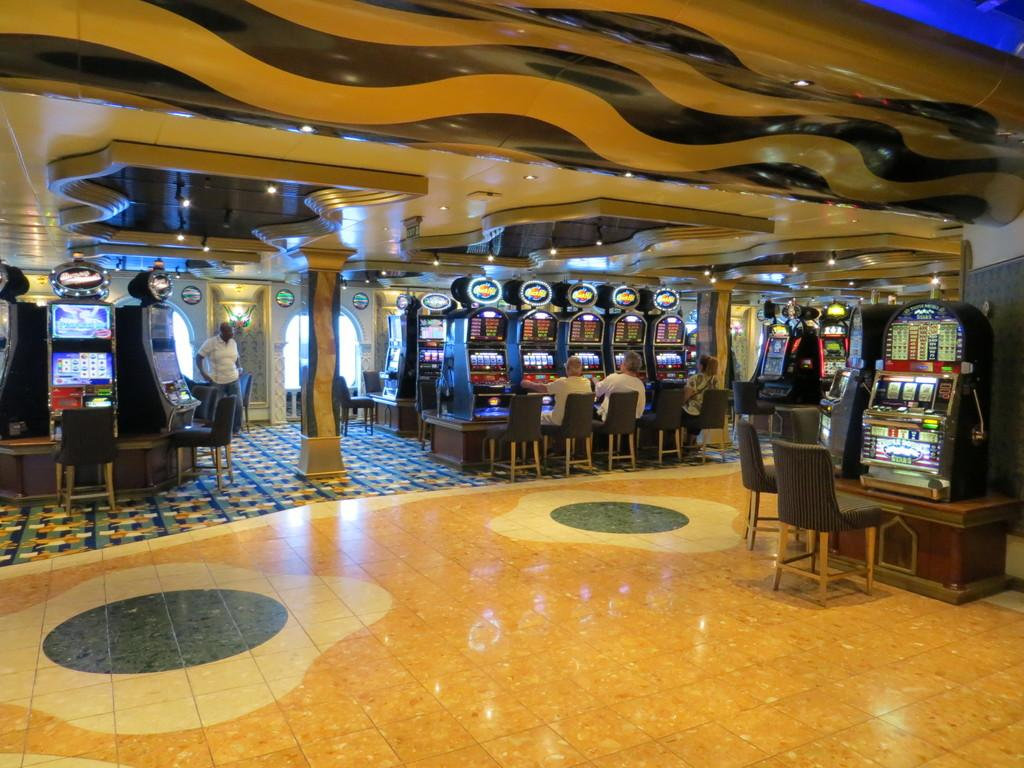Chair: (772, 440, 888, 596), (54, 413, 118, 515), (172, 399, 241, 492), (737, 415, 781, 549), (481, 396, 550, 477), (546, 397, 604, 479), (634, 381, 682, 459), (593, 394, 640, 467), (686, 388, 731, 452), (337, 373, 381, 436)
